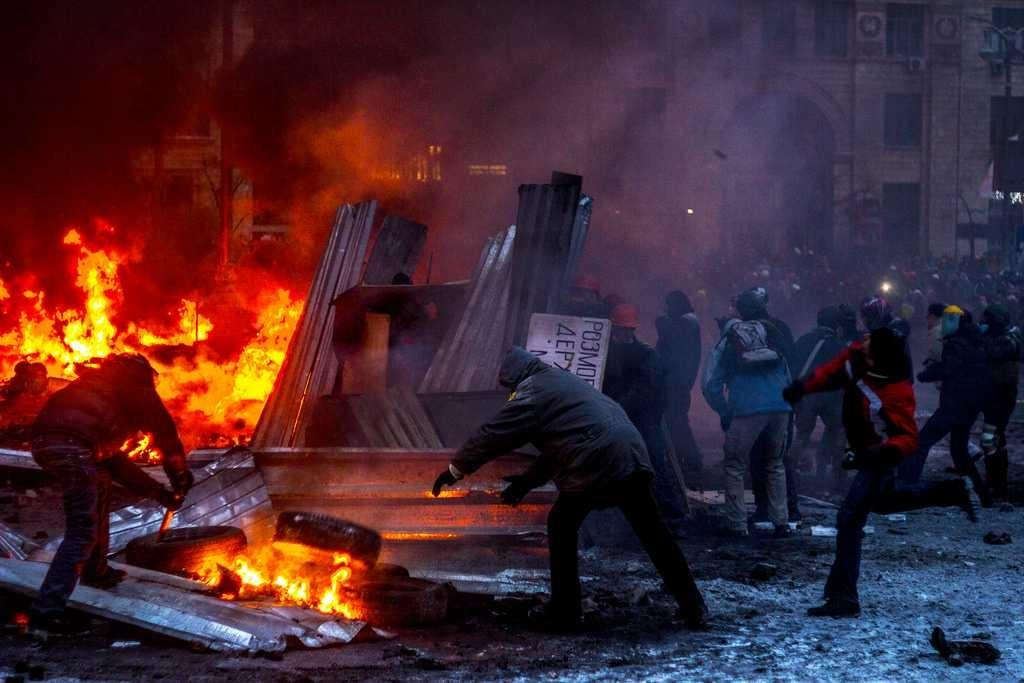fire: (18, 118, 294, 419)
